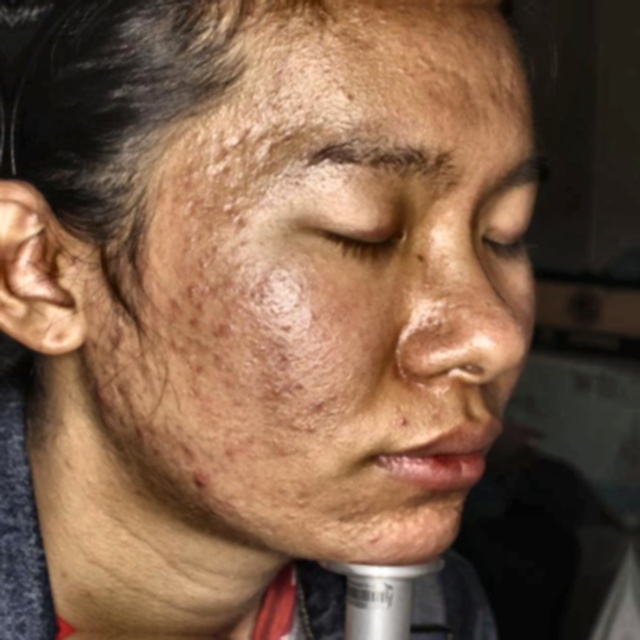comedone: (83, 379, 111, 419), (184, 469, 215, 505), (128, 415, 152, 443)
